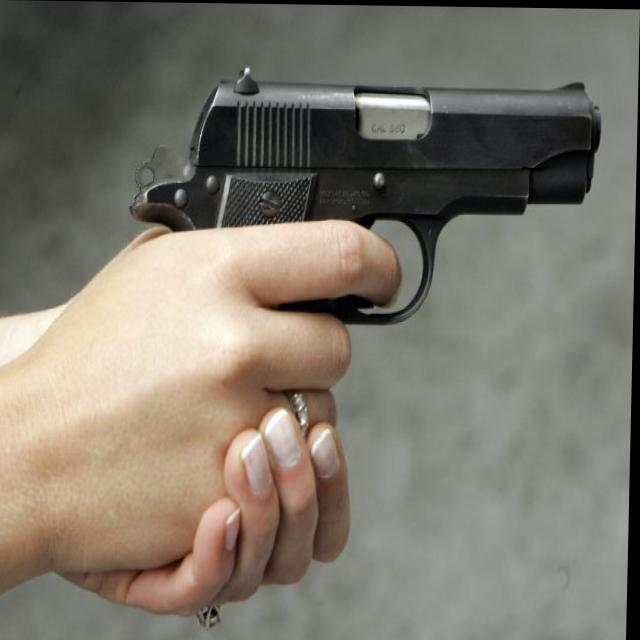handgun: (130, 59, 603, 330)
